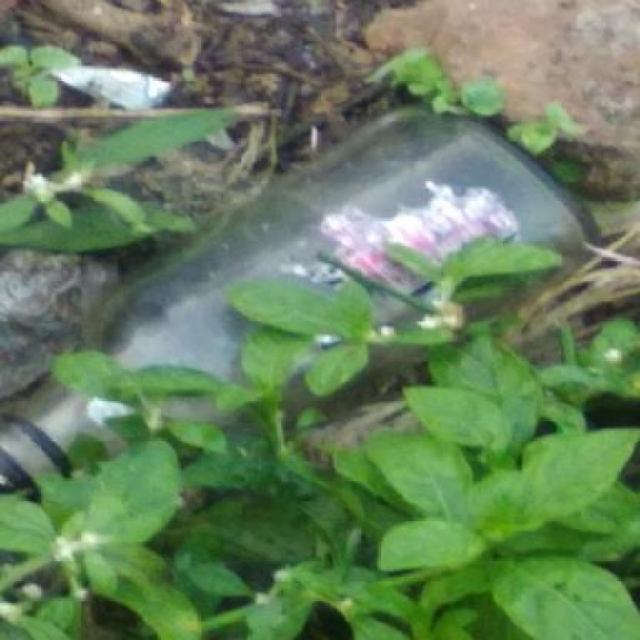garbage: (0, 96, 615, 558)
